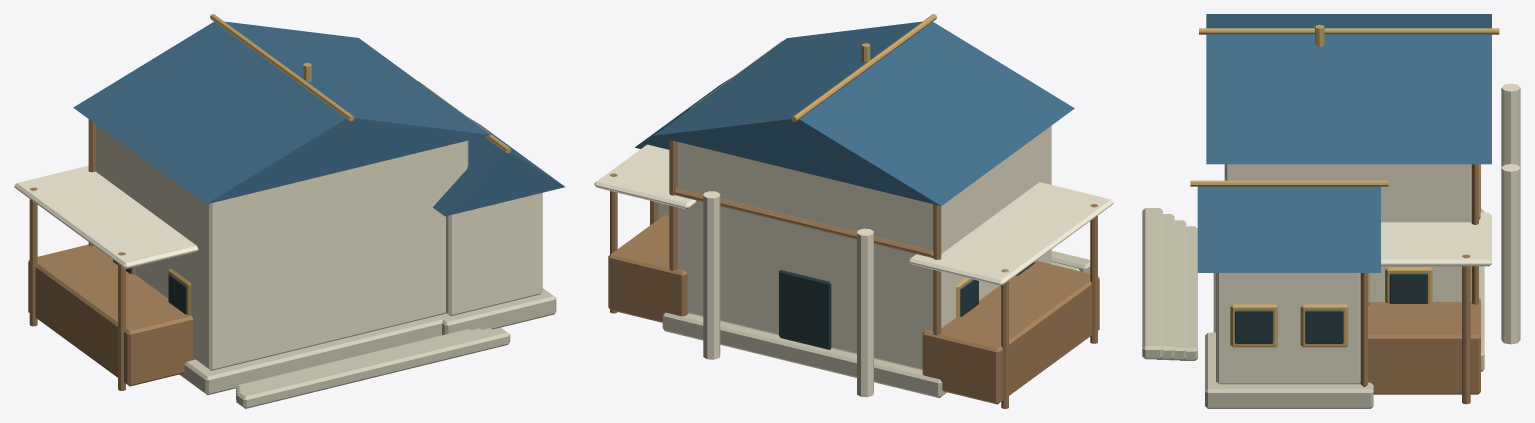
File: level_29.glb
3 renders of one model, left to right at view 1: azimuth 30°, elevation 25°; view 2: azimuth 150°, elevation 25°; view 3: azimuth 270°, elevation 25°, orthographic. The views are drawn at different scales.
Visible parts, largest first — view 1: market — level 29; view 2: market — level 29; view 3: market — level 29.
Part boxes in pixels (<box>): market — level 29: <box>14,14,565,408</box>; market — level 29: <box>594,14,1113,408</box>; market — level 29: <box>1142,14,1520,408</box>.
Size of the model in its own units: 7.08 by 4.21 by 5.16.
